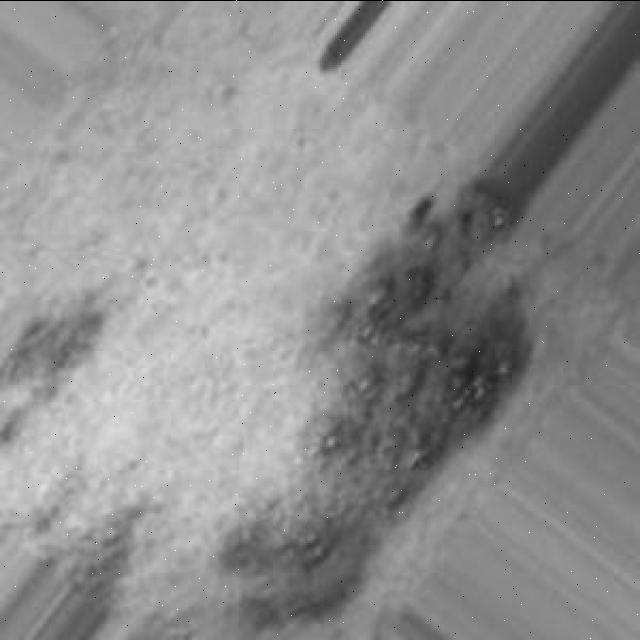Shingles: (215, 184, 532, 628), (8, 298, 102, 398), (76, 496, 146, 593)
